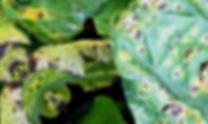Tomato Early blight leaf: (58, 0, 208, 124)
